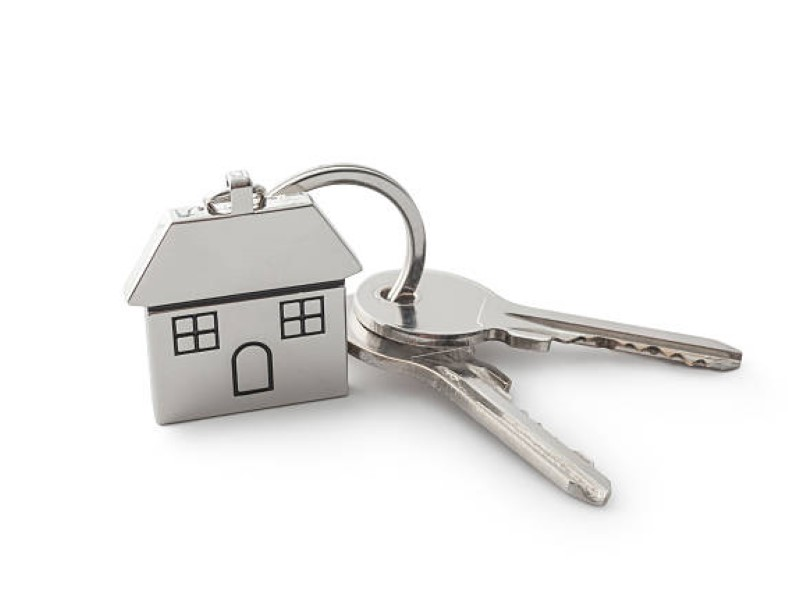key: (325, 257, 744, 508)
